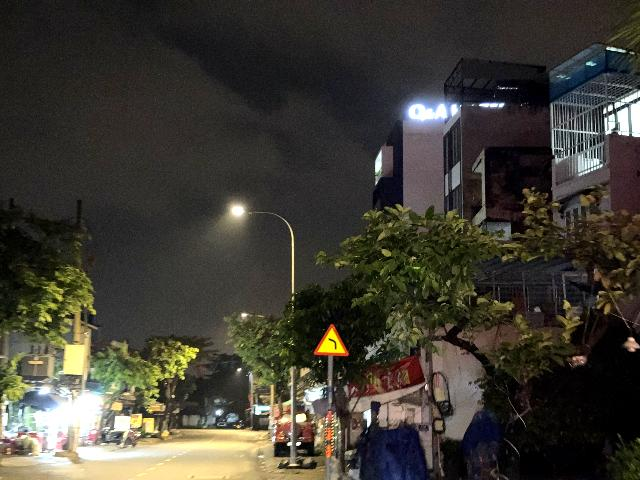cho-ngoat-nguy-hiem-ben-trai: (313, 323, 349, 356)
